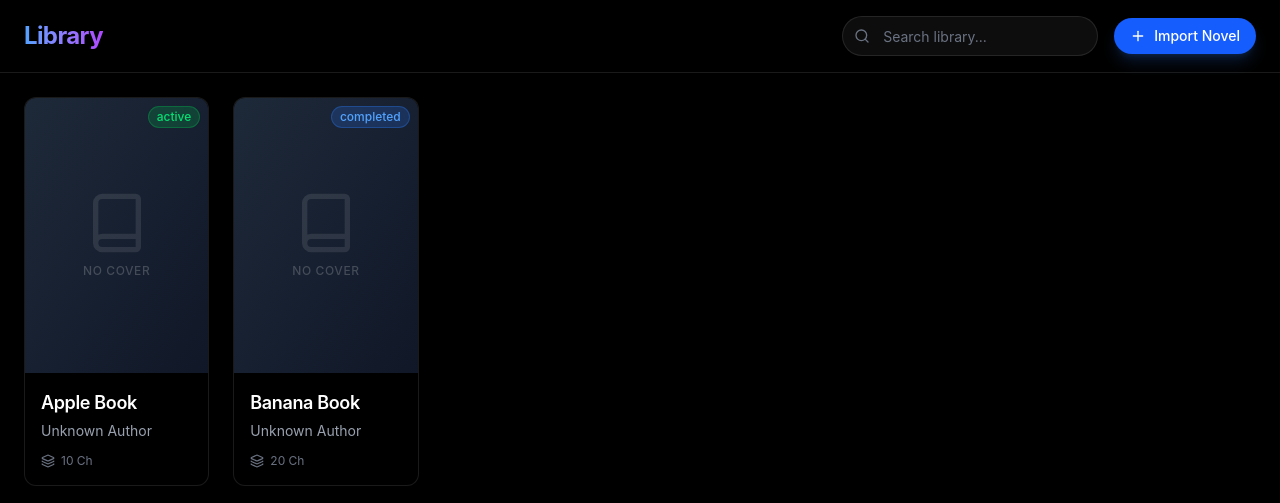
it: Library Page › filters novels based on search query
Expected: the heading "Apple Book" is shown, [41,392,137,413]
Type "Banana" into the field with placeholder "Search library..." at (970, 36), box [842,16,1098,56]
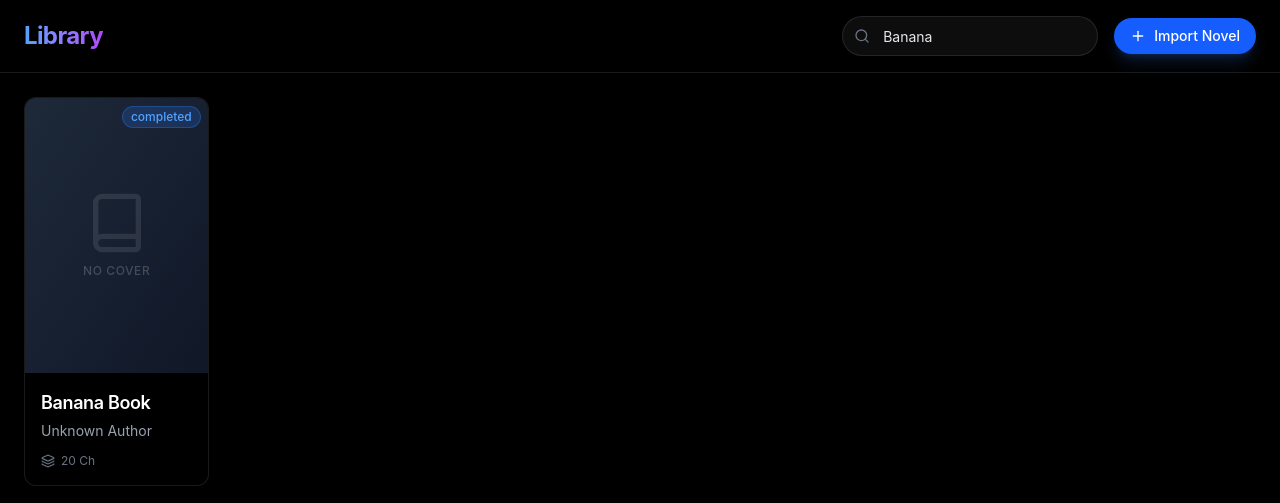
Expected: the heading "Banana Book" is shown, [41,392,150,413]
Expected: the heading "Apple Book" is gone
